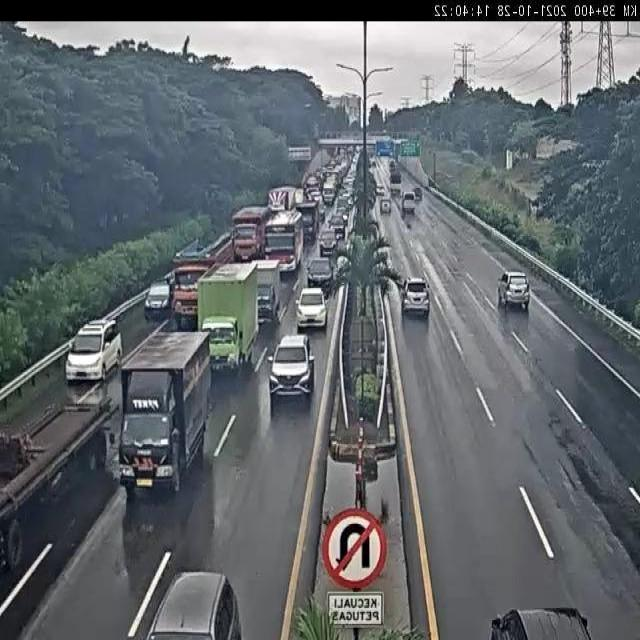Car: (143, 570, 243, 638), (66, 318, 122, 384), (487, 606, 596, 638), (268, 334, 315, 408), (498, 270, 531, 310), (401, 276, 431, 318), (306, 256, 334, 294), (402, 191, 416, 215), (413, 186, 422, 202)
Truck: (88, 315, 225, 534), (0, 386, 120, 587), (198, 260, 262, 378), (171, 234, 239, 326), (262, 208, 306, 276), (231, 206, 270, 263), (254, 259, 283, 326), (69, 378, 112, 416), (295, 286, 327, 330), (294, 196, 320, 246), (172, 284, 199, 331), (101, 422, 122, 479), (144, 280, 172, 322), (198, 231, 232, 262), (0, 516, 17, 578), (284, 144, 314, 179), (81, 318, 119, 344), (490, 610, 522, 640), (174, 238, 210, 262), (343, 197, 358, 240), (331, 157, 350, 186), (374, 241, 392, 271), (360, 452, 378, 482), (319, 230, 337, 257), (322, 174, 338, 204), (332, 240, 352, 264), (305, 171, 322, 199), (553, 139, 578, 158), (328, 214, 346, 240), (337, 191, 353, 220), (376, 335, 386, 379), (335, 254, 350, 280), (317, 138, 349, 150), (340, 136, 372, 148), (369, 136, 390, 154), (389, 172, 402, 195), (460, 148, 481, 162), (344, 175, 356, 199), (327, 250, 338, 276), (369, 162, 380, 187), (368, 212, 380, 234), (318, 129, 338, 141), (326, 158, 339, 176), (268, 200, 286, 213), (294, 188, 305, 209), (528, 200, 540, 218), (435, 171, 454, 182), (319, 167, 330, 185), (364, 141, 377, 156), (328, 146, 341, 161), (393, 138, 402, 159), (380, 196, 391, 213), (318, 204, 328, 222), (354, 150, 362, 172), (349, 116, 359, 132), (428, 175, 438, 190), (300, 148, 312, 160), (396, 276, 406, 290), (165, 270, 174, 285), (369, 192, 376, 211), (404, 212, 412, 228), (506, 150, 512, 170), (375, 184, 384, 196), (389, 159, 396, 174), (369, 155, 376, 169), (311, 134, 319, 146), (364, 152, 372, 164), (401, 205, 407, 220), (356, 146, 363, 158), (422, 182, 431, 191), (383, 191, 390, 201), (426, 281, 430, 293)
